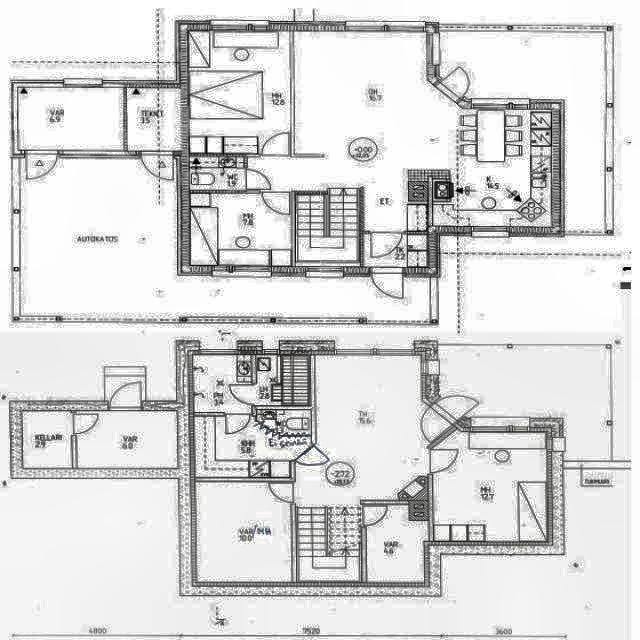room: (433, 429, 546, 541), (196, 482, 291, 582), (194, 410, 311, 477), (191, 194, 291, 265), (18, 88, 123, 150), (77, 411, 177, 468), (367, 505, 428, 582), (127, 88, 180, 151), (193, 355, 251, 412), (257, 355, 310, 406), (190, 157, 244, 190)
